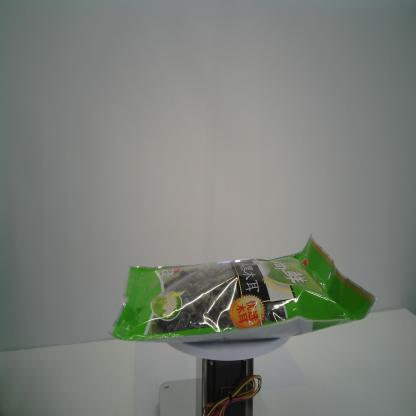Dried Food: (108, 232, 378, 344)
